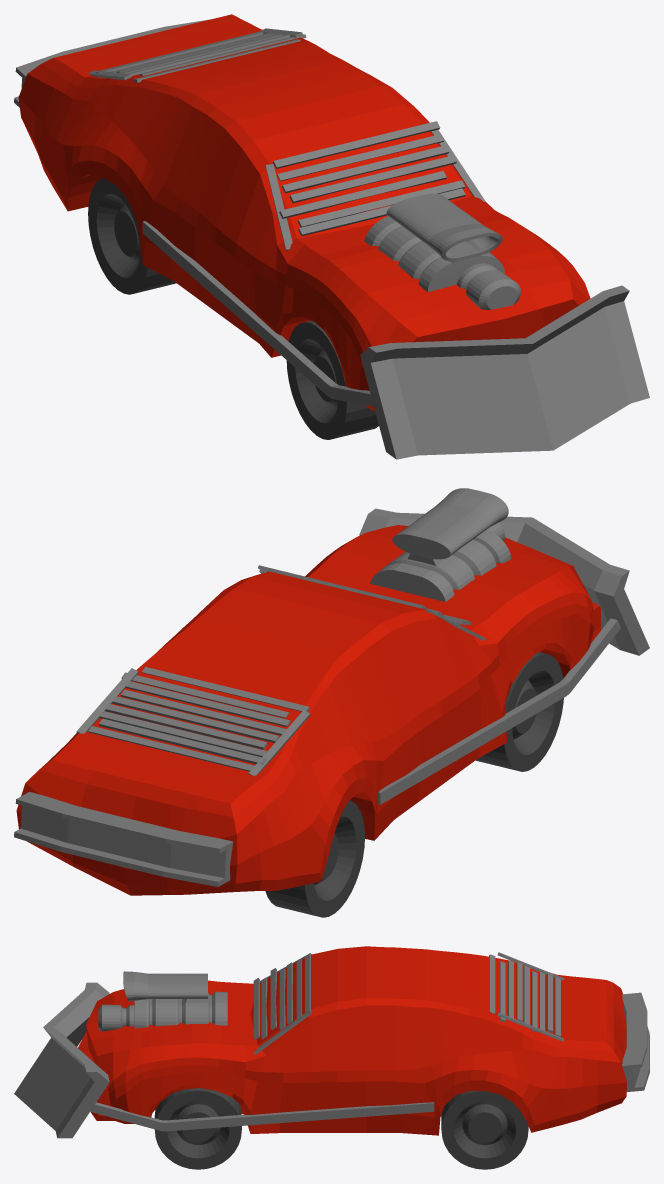
Rendered from MuscleCarV4.fbx.
3 renders of one model, top to bottom at view 1: azimuth 30°, elevation 25°; view 2: azimuth 150°, elevation 25°; view 3: azimuth 270°, elevation 25°, orthographic. The views are drawn at different scales.
Parts seen in each view (by area): view 1: Body_MuscleCar, FBumperSticker_MuscleCar, Supercharger_MuscleCar, FWheelRight_MuscleCar, BWheelRight_MuscleCar.001, RMetalBar_MuscleCar, WindshieldArmor05_MuscleCar, WindshieldArmor07_MuscleCar, WindshieldArmor04_MuscleCar, WindshieldArmor03_MuscleCar, WindshieldArmor06_MuscleCar, WindshieldArmor01_MuscleCar (+4 smaller); view 2: Body_MuscleCar, BBumperSticker_MuscleCar, Supercharger_MuscleCar, FBumperSticker_MuscleCar, FWheelRight_MuscleCar, BWheelRight_MuscleCar.001, RMetalBar_MuscleCar, WindshieldArmor17_MuscleCar, WindshieldArmor14_MuscleCar, WindshieldArmor15_MuscleCar, WindshieldArmor13_MuscleCar, WindshieldArmor12_MuscleCar (+7 smaller); view 3: Body_MuscleCar, FBumperSticker_MuscleCar, Supercharger_MuscleCar, BWheelLeft_MuscleCar, FWheelLeft_MuscleCar, LMetalBar_MuscleCar, BBumperSticker_MuscleCar, WindshieldArmor17_MuscleCar, WindshieldArmor00_MuscleCar, WindshieldArmor10_MuscleCar, WindshieldArmor03_MuscleCar, WindshieldArmor13_MuscleCar (+11 smaller).
Part boxes in pixels (x1,y1,x2,y2): Body_MuscleCar: (18, 14, 590, 411); FBumperSticker_MuscleCar: (360, 285, 649, 459); Supercharger_MuscleCar: (364, 193, 520, 309); FWheelRight_MuscleCar: (286, 320, 378, 439); BWheelRight_MuscleCar.001: (88, 178, 176, 294); RMetalBar_MuscleCar: (142, 221, 373, 406); WindshieldArmor05_MuscleCar: (282, 145, 449, 193); WindshieldArmor07_MuscleCar: (272, 121, 440, 168); WindshieldArmor04_MuscleCar: (289, 155, 456, 203); WindshieldArmor03_MuscleCar: (279, 171, 446, 218); WindshieldArmor06_MuscleCar: (277, 134, 443, 181); WindshieldArmor01_MuscleCar: (298, 180, 465, 227); Body_MuscleCar: (16, 525, 600, 895); BBumperSticker_MuscleCar: (14, 792, 233, 886); Supercharger_MuscleCar: (370, 488, 510, 601); FBumperSticker_MuscleCar: (359, 508, 649, 655); FWheelRight_MuscleCar: (475, 652, 563, 771); BWheelRight_MuscleCar.001: (265, 800, 364, 917); RMetalBar_MuscleCar: (377, 618, 620, 804); WindshieldArmor17_MuscleCar: (99, 718, 266, 764); WindshieldArmor14_MuscleCar: (112, 696, 279, 742); WindshieldArmor15_MuscleCar: (105, 704, 267, 749); WindshieldArmor13_MuscleCar: (121, 689, 286, 735); WindshieldArmor12_MuscleCar: (125, 681, 290, 726); Body_MuscleCar: (78, 946, 626, 1135); FBumperSticker_MuscleCar: (14, 982, 109, 1138); Supercharger_MuscleCar: (98, 971, 227, 1031); BWheelLeft_MuscleCar: (441, 1090, 528, 1169); FWheelLeft_MuscleCar: (154, 1088, 241, 1169); LMetalBar_MuscleCar: (90, 1102, 434, 1131); BBumperSticker_MuscleCar: (622, 992, 649, 1091); WindshieldArmor17_MuscleCar: (546, 971, 552, 1032); WindshieldArmor00_MuscleCar: (253, 978, 259, 1039); WindshieldArmor10_MuscleCar: (489, 954, 495, 1013); WindshieldArmor03_MuscleCar: (270, 968, 276, 1029); WindshieldArmor13_MuscleCar: (516, 962, 522, 1021).
Size of the model in its own units: 100 by 81.31 by 295.
